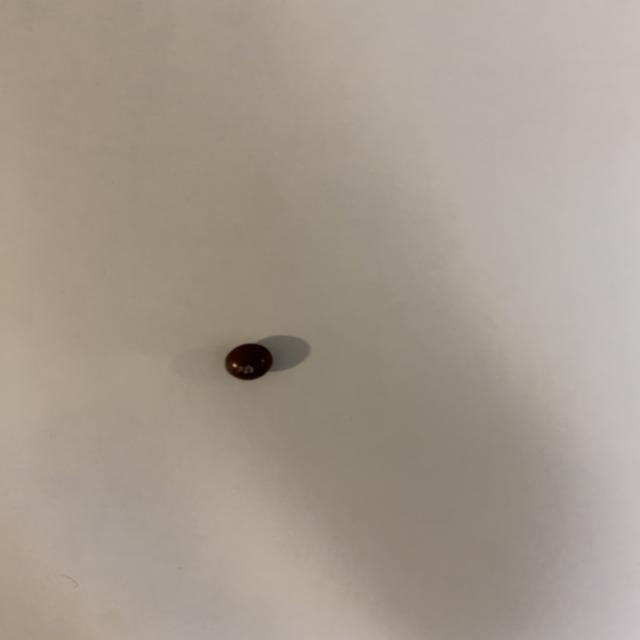smartie: (225, 344, 272, 380)
